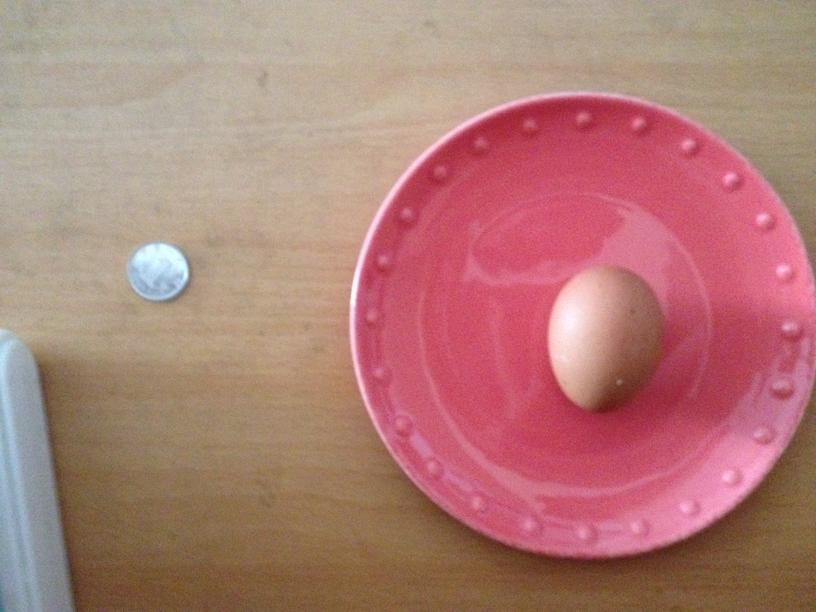coin: (127, 240, 189, 303)
egg: (549, 266, 666, 413)
